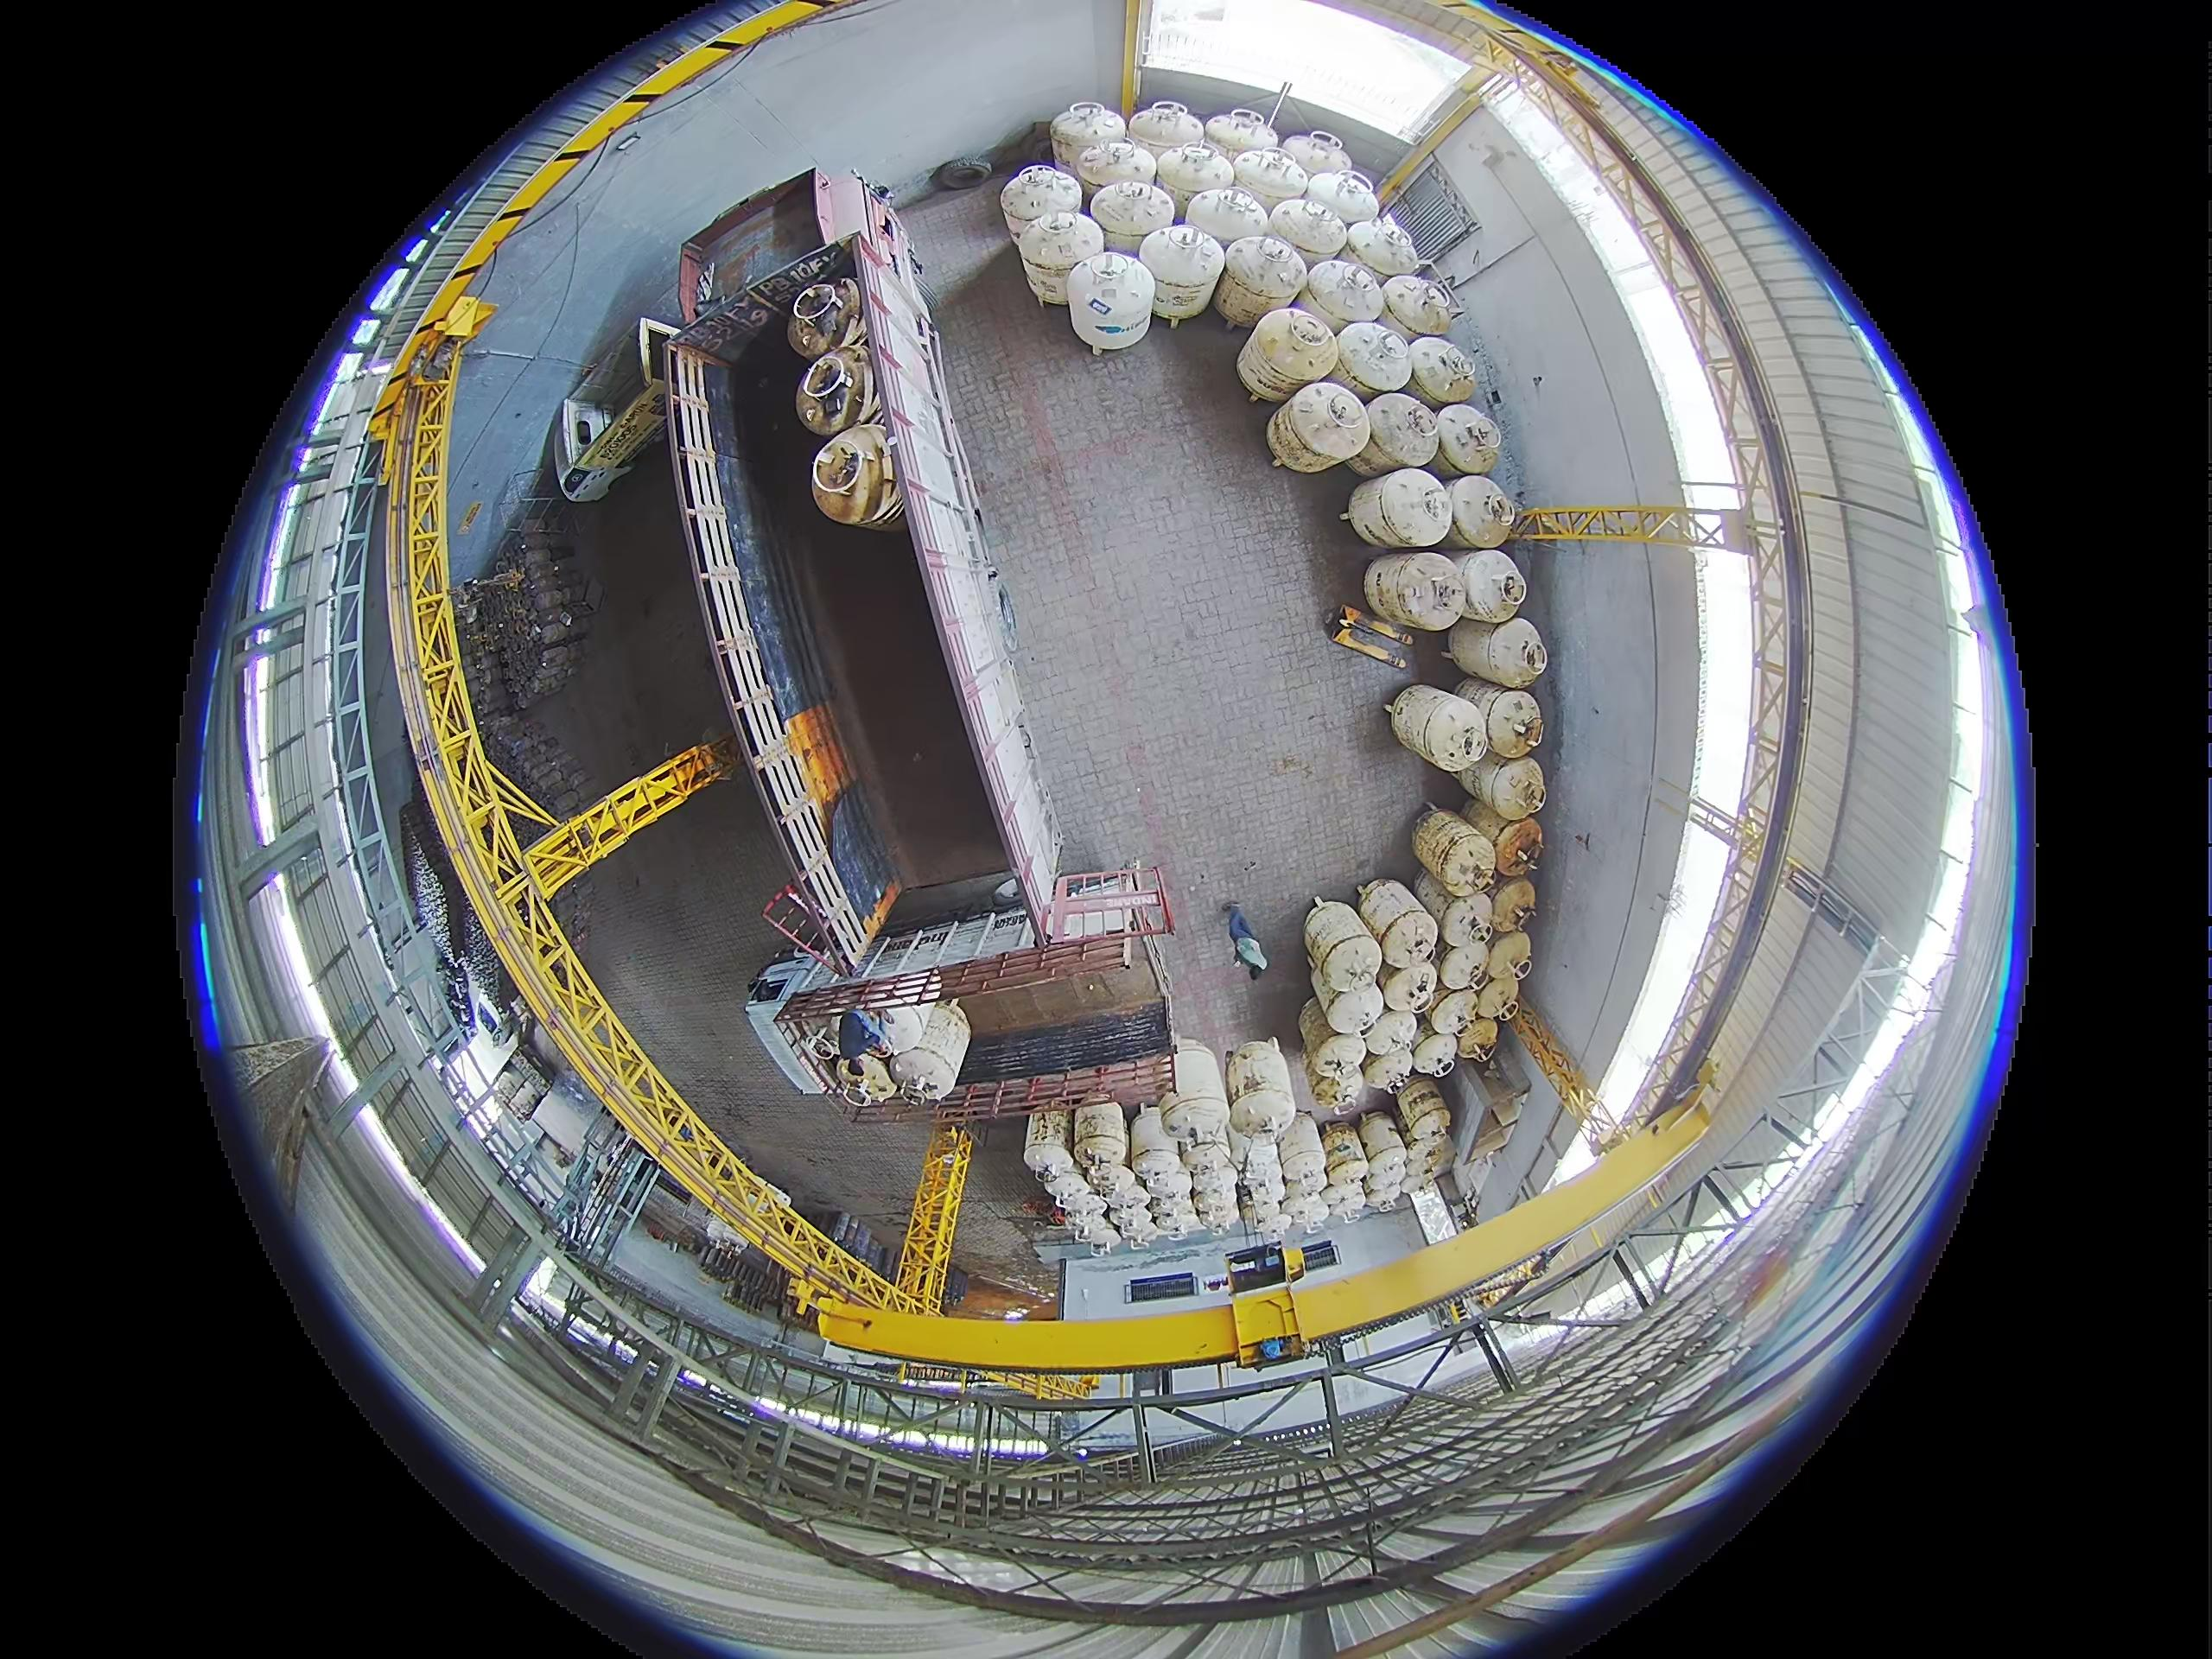cylinder: (1364, 843, 1460, 1009), (1414, 920, 1512, 1068), (1397, 681, 1527, 782), (1310, 1138, 1414, 1251), (1271, 397, 1367, 509), (1068, 251, 1157, 352), (1372, 552, 1480, 627), (1021, 206, 1120, 286), (1228, 1037, 1298, 1140), (1259, 317, 1350, 390), (1301, 890, 1374, 981), (1439, 824, 1515, 903), (1003, 164, 1083, 239), (1183, 1037, 1237, 1143), (1050, 103, 1127, 176), (1315, 254, 1385, 326), (1188, 186, 1277, 240), (1416, 333, 1487, 396), (1271, 197, 1346, 256), (1355, 216, 1430, 275), (1308, 169, 1381, 223), (1129, 101, 1205, 152), (1207, 108, 1277, 157), (1284, 129, 1352, 176), (1085, 1122, 1137, 1180), (1299, 1002, 1350, 1060), (1022, 1129, 1073, 1180), (1061, 1175, 1089, 1206)
truck: (660, 204, 1054, 945), (747, 936, 1177, 1122), (526, 310, 674, 502)
